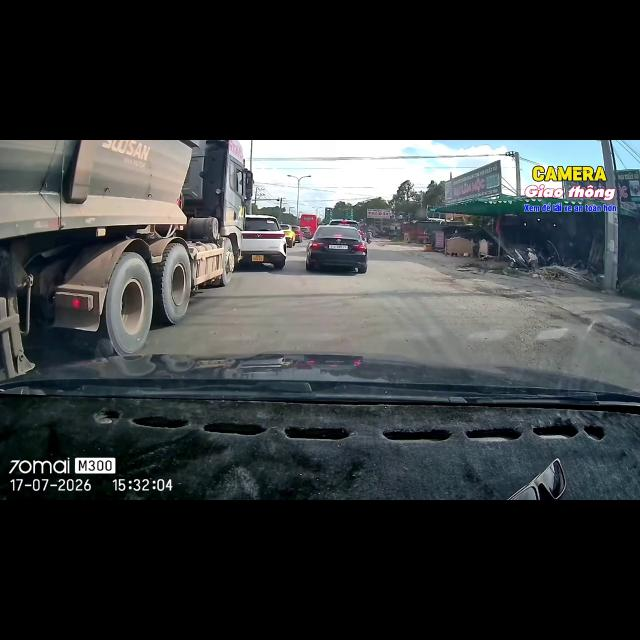bus: (300, 215, 317, 235)
car: (306, 226, 367, 273), (241, 215, 286, 269), (328, 220, 365, 239), (281, 224, 295, 247), (291, 226, 302, 242), (301, 227, 312, 238)
truck: (0, 140, 253, 378)
